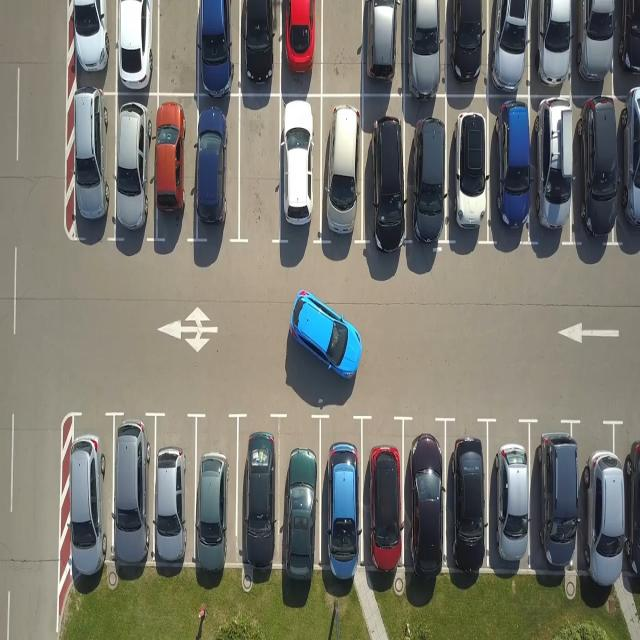space-empty: (237, 94, 282, 246), (154, 0, 199, 93), (319, 0, 364, 93)
space-occupied: (576, 441, 634, 590), (108, 407, 154, 575), (318, 413, 364, 579), (192, 410, 240, 569), (401, 415, 447, 580), (486, 417, 534, 572), (319, 93, 367, 247), (528, 100, 580, 242), (66, 90, 116, 237), (193, 94, 240, 246), (444, 100, 492, 242), (278, 93, 322, 245), (240, 408, 281, 569), (486, 95, 530, 243), (151, 95, 194, 246), (447, 416, 487, 578), (112, 94, 154, 243), (279, 404, 317, 567), (364, 108, 408, 247), (533, 416, 570, 576), (362, 416, 399, 568), (578, 98, 612, 258), (70, 415, 106, 563), (408, 95, 442, 245), (158, 410, 187, 566), (68, 0, 116, 92), (530, 0, 576, 95), (488, 0, 534, 95), (402, 0, 446, 96), (113, 0, 158, 93), (445, 0, 490, 93), (279, 0, 322, 93), (238, 0, 281, 93), (196, 0, 239, 93), (363, 0, 404, 93), (574, 0, 610, 96), (616, 101, 640, 242), (615, 0, 639, 93)
